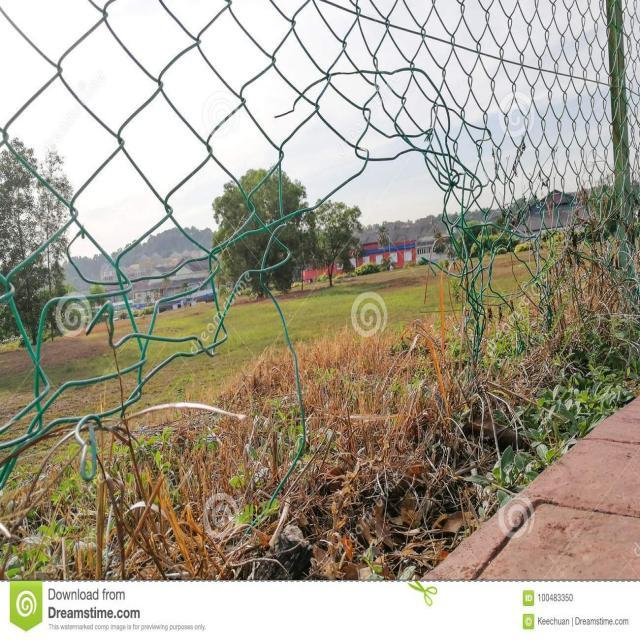fence line: (3, 142, 488, 570)
